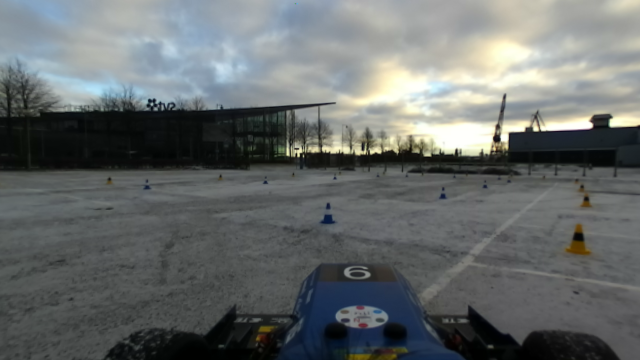blue: (318, 201, 337, 226)
yellow: (567, 226, 590, 256)
